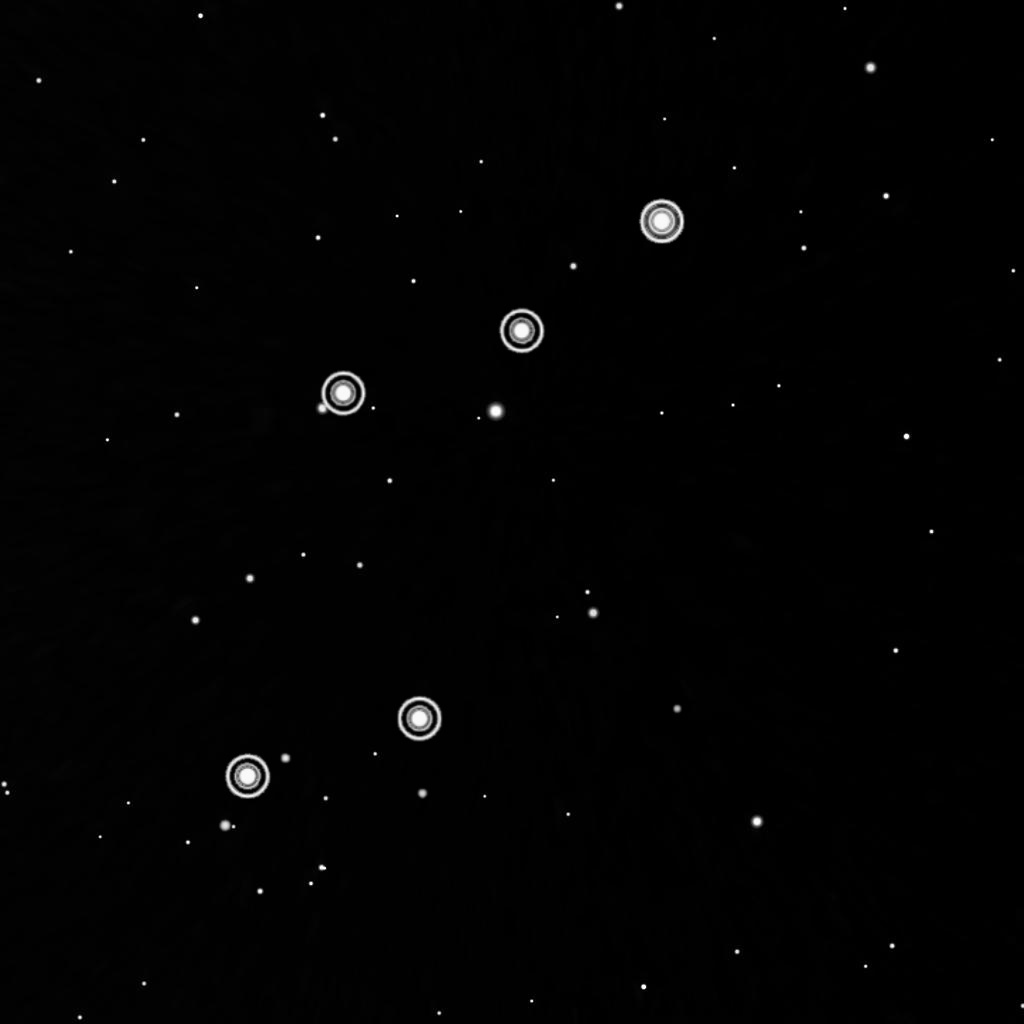lyra: (214, 183, 690, 825)
